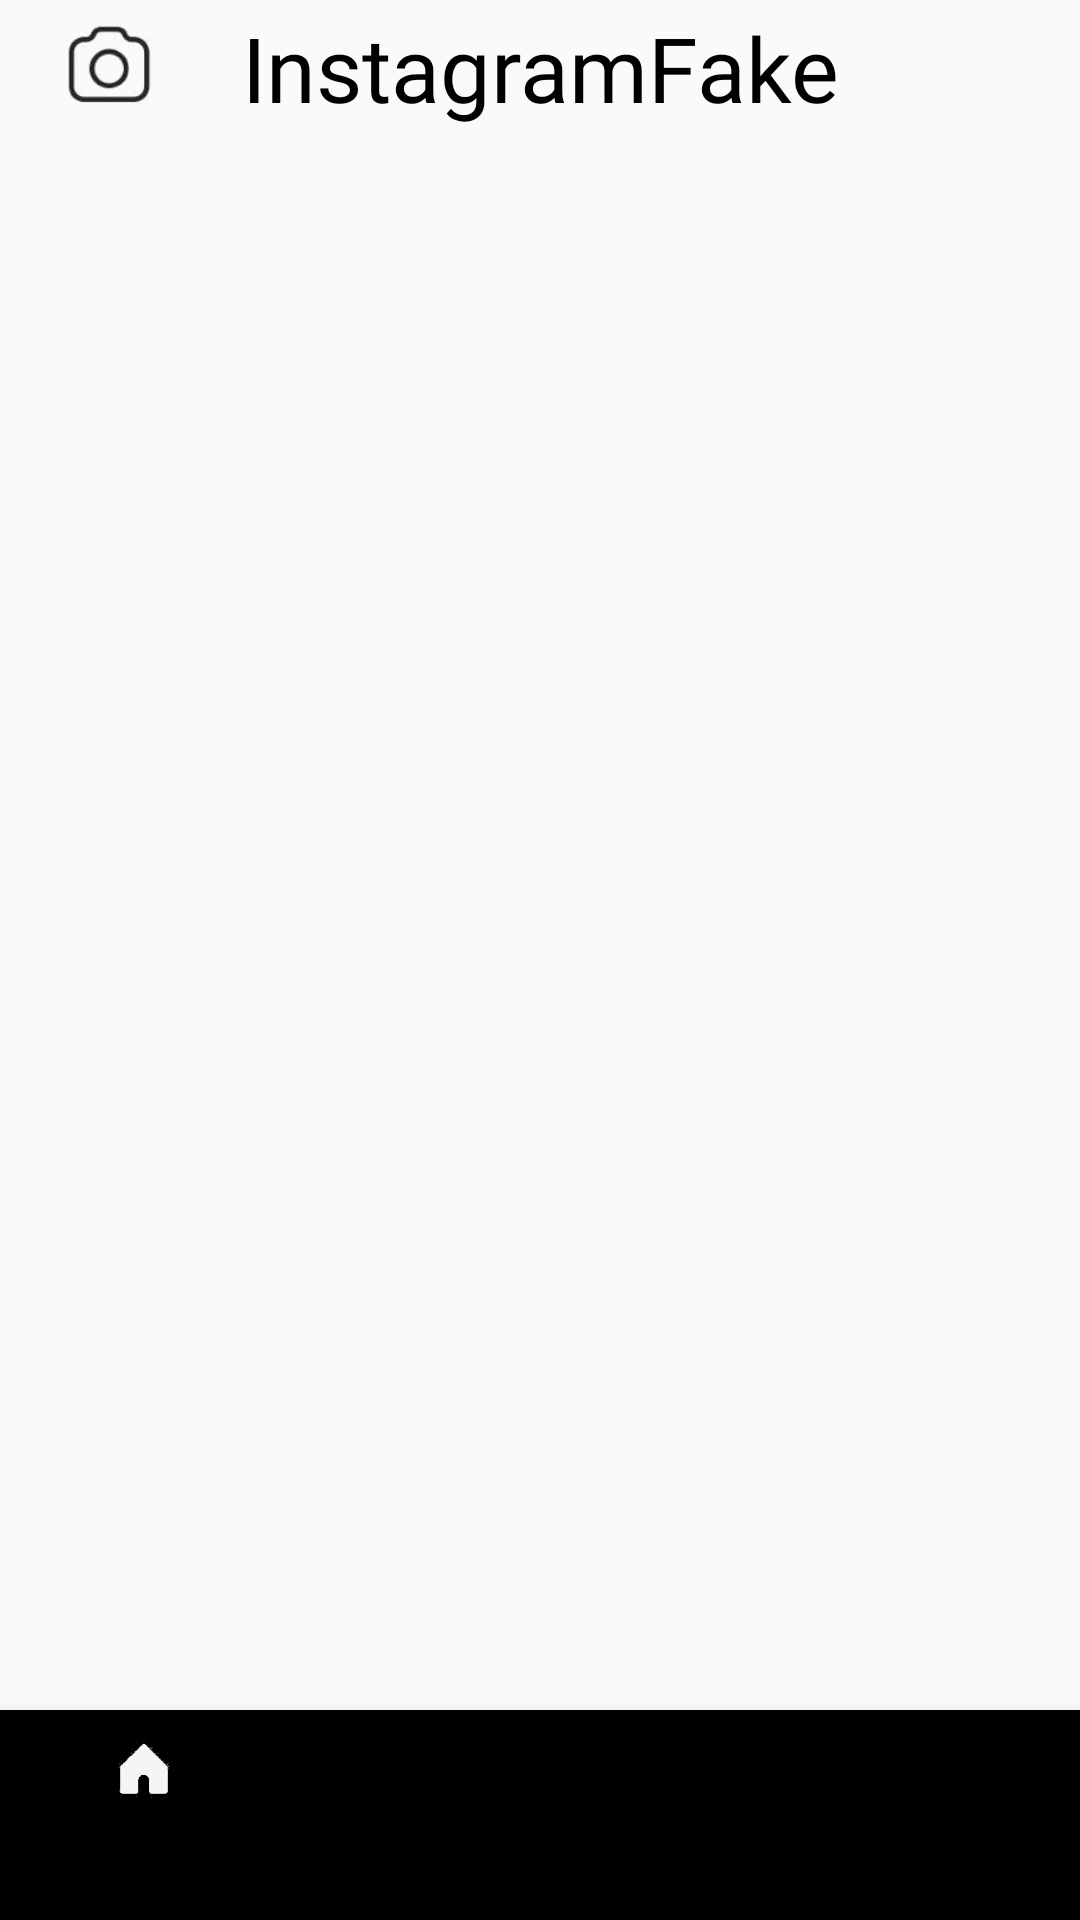

Named icons in this screenshot (1080*1920) and their bounding boxes, (x1, y1, x2, y2):
camera: (68, 26, 150, 102)
